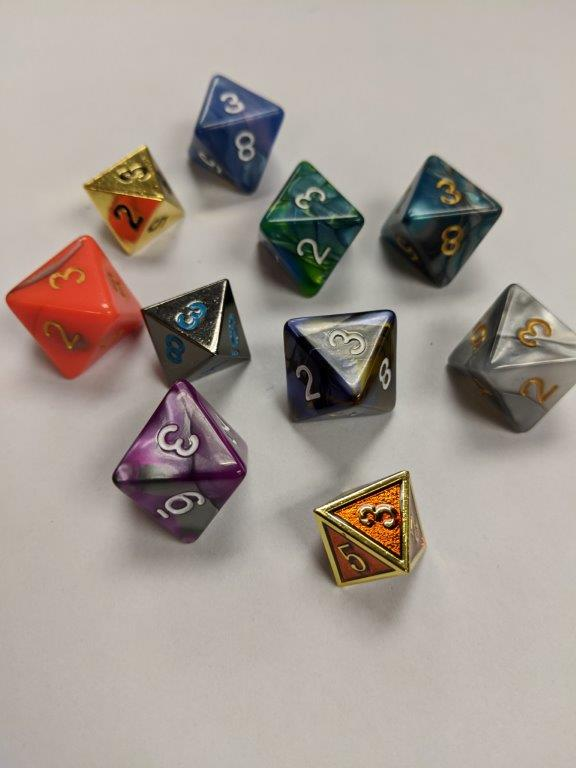d8-3: (106, 378, 252, 543), (6, 235, 143, 386), (447, 280, 576, 433), (382, 153, 501, 286), (314, 462, 431, 587), (259, 160, 365, 290), (142, 275, 253, 395), (288, 305, 396, 419), (81, 145, 181, 256), (191, 73, 283, 193)
